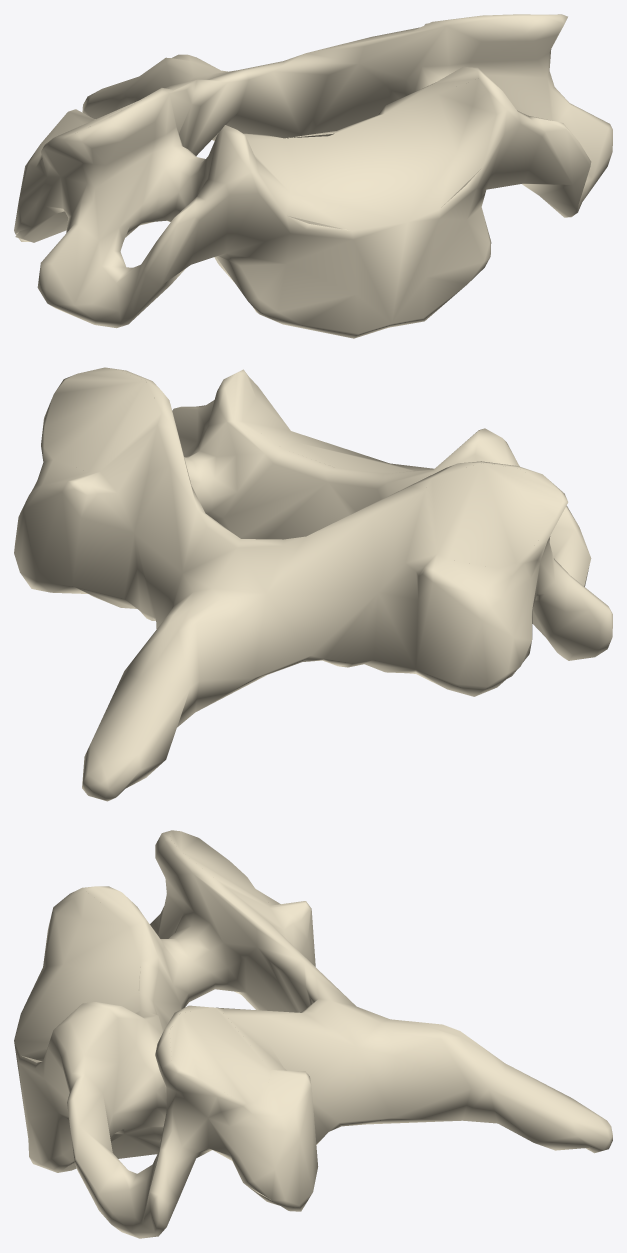
Rendered from esqueleto-vertebra-c5.glb.
3 views of the same model, one above another, from view 1: azimuth 30°, elevation 25°; view 2: azimuth 150°, elevation 25°; view 3: azimuth 270°, elevation 25° (orthographic).
Visible parts, largest first — view 1: Vertebra C5; view 2: Vertebra C5; view 3: Vertebra C5.
Part boxes in pixels (x1=…): Vertebra C5: x1=14, y1=14, x2=612, y2=338; Vertebra C5: x1=14, y1=367, x2=612, y2=801; Vertebra C5: x1=14, y1=830, x2=612, y2=1238.
Size of the model in its own units: 0.0614 by 0.0225 by 0.0564.
